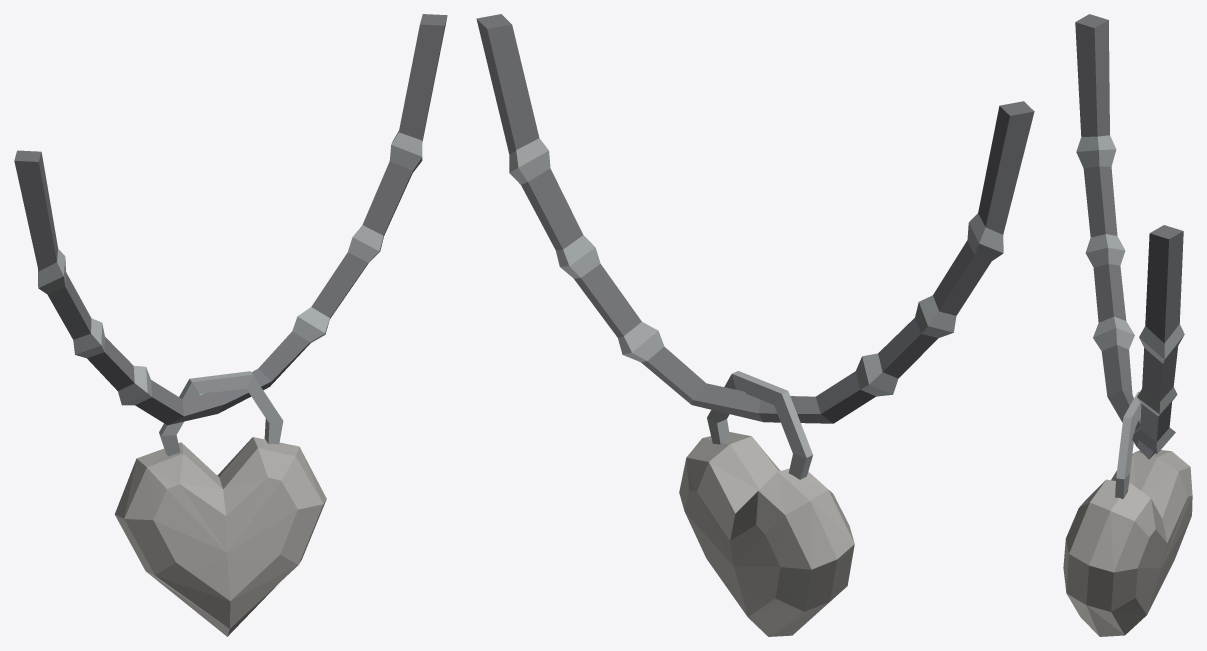
The model's file is amuletLocket2.fbx.
3 views of the same model, side by side, from view 1: azimuth 30°, elevation 25°; view 2: azimuth 150°, elevation 25°; view 3: azimuth 270°, elevation 25° (orthographic). The views are drawn at different scales.
Visible parts, largest first — view 1: amuletLocket2; view 2: amuletLocket2; view 3: amuletLocket2.
Part boxes in pixels (left/top/right/bottom): amuletLocket2: left=14, top=14, right=447, bottom=636; amuletLocket2: left=476, top=14, right=1034, bottom=636; amuletLocket2: left=1063, top=14, right=1192, bottom=636.
Size of the model in its own units: 1.84 by 1.98 by 0.4458.
